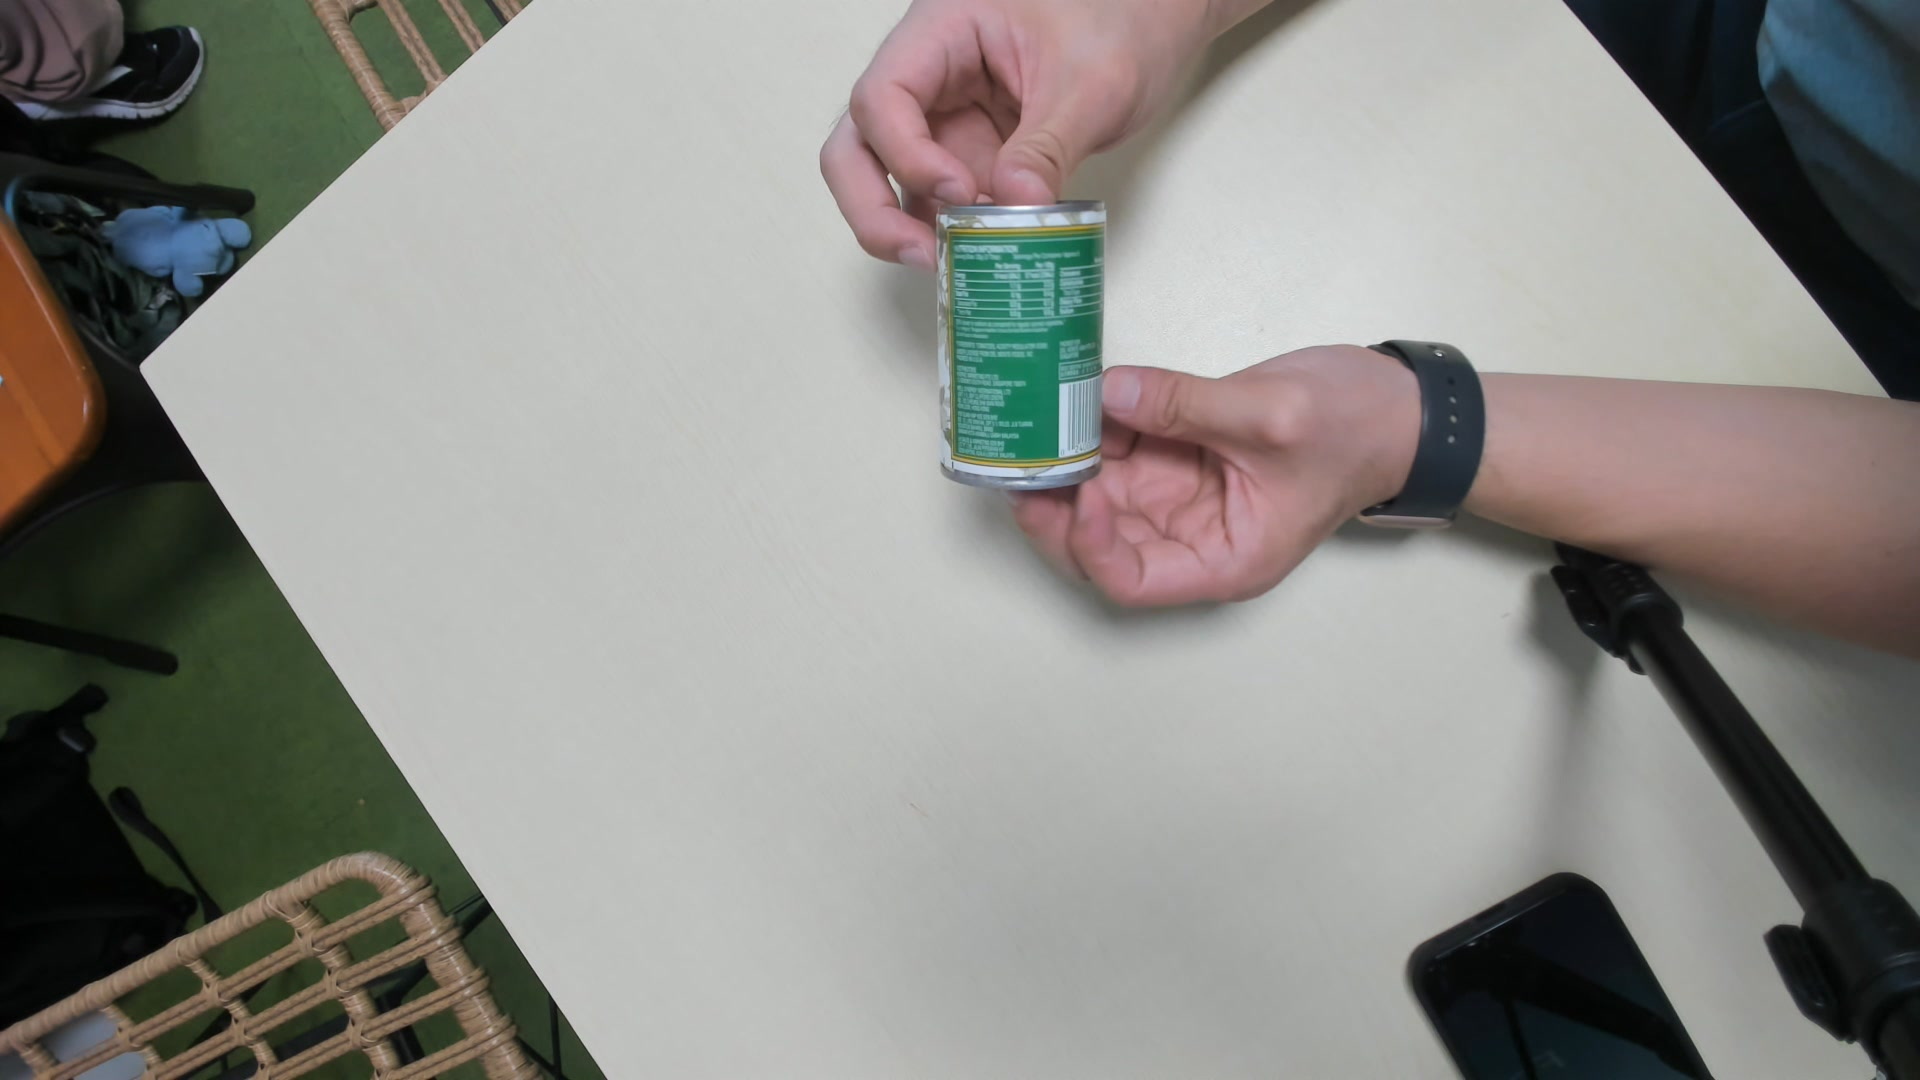OtherSauceDressing_100-199g_NonHalal_Healthy: (930, 194, 1102, 496)
